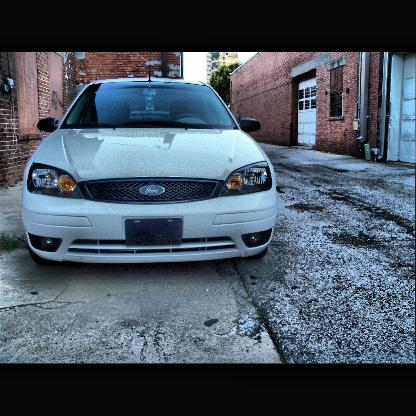Ford Focus Sedan 2007: (24, 54, 279, 269)
